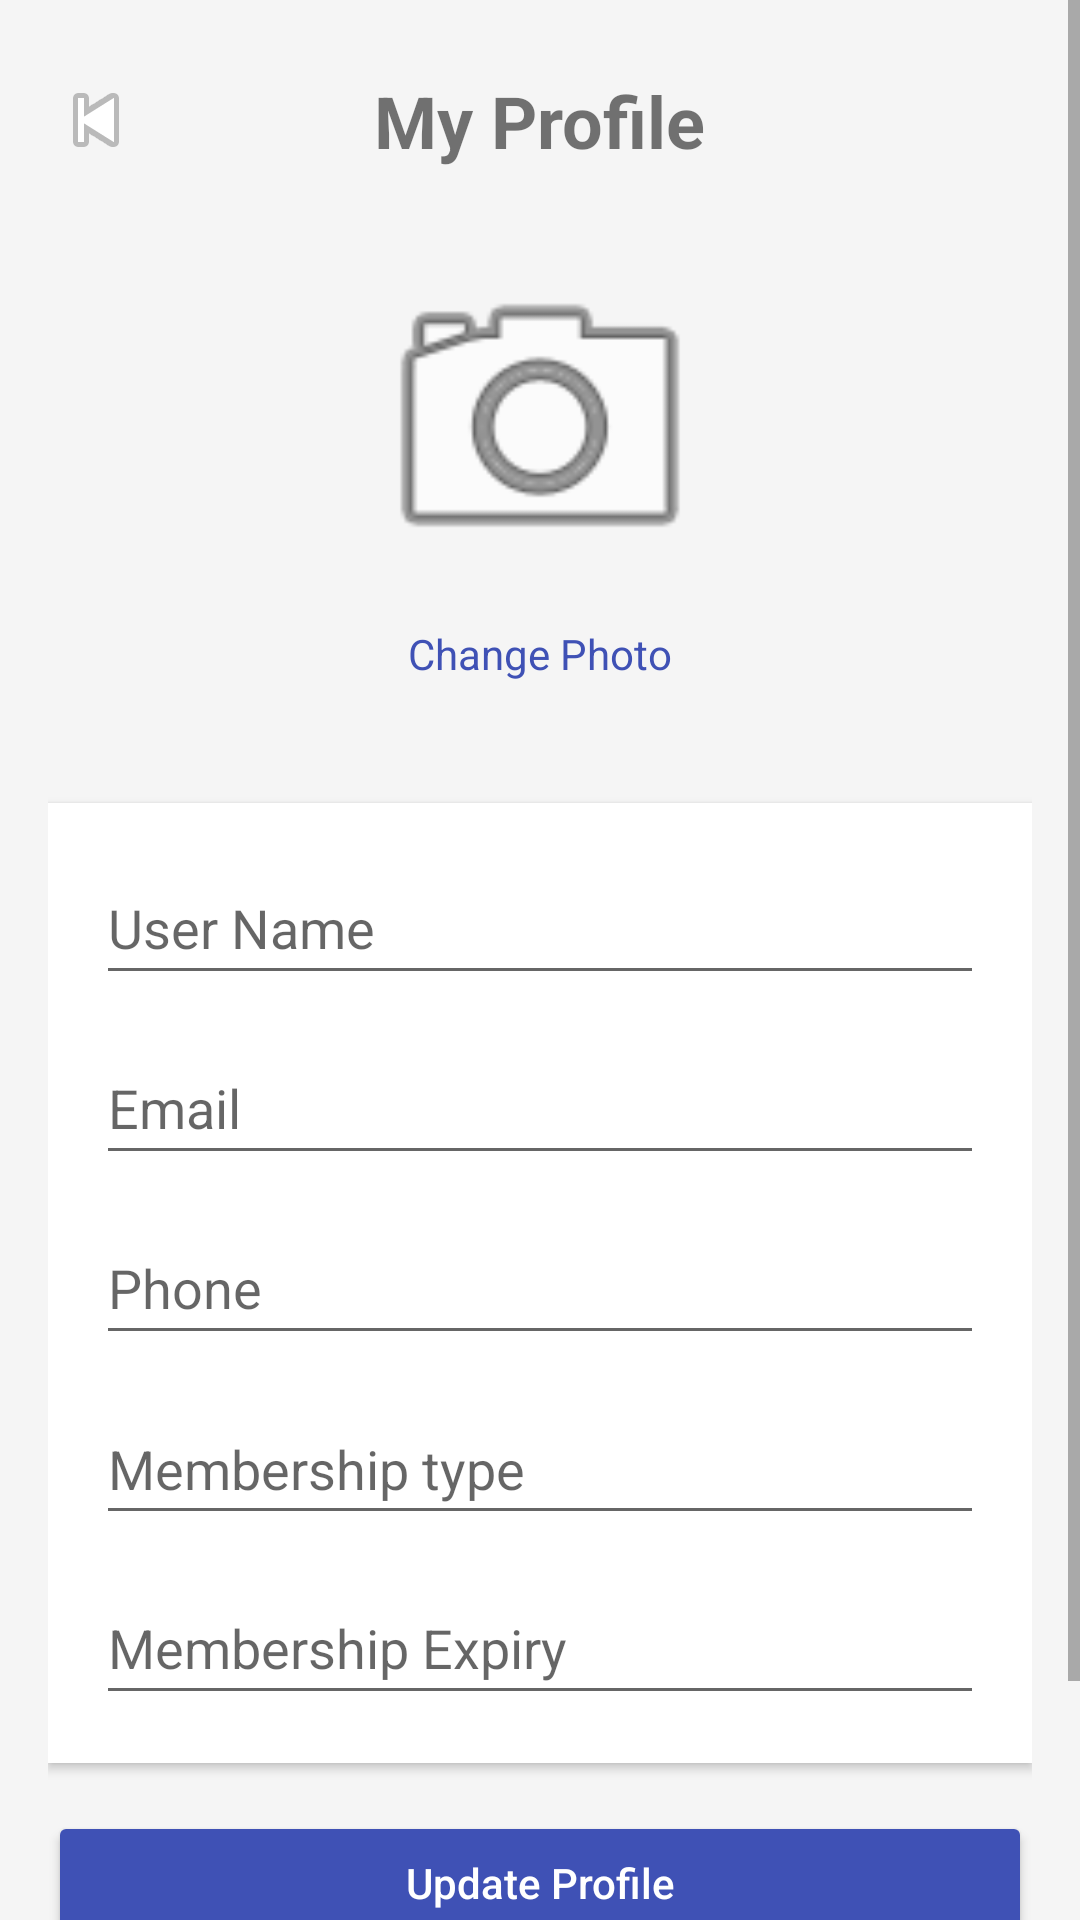

Where to tap for icons on this 1080 × 1920 app screen, as (x,y):
camera: (540,415)
previous: (96,120)
